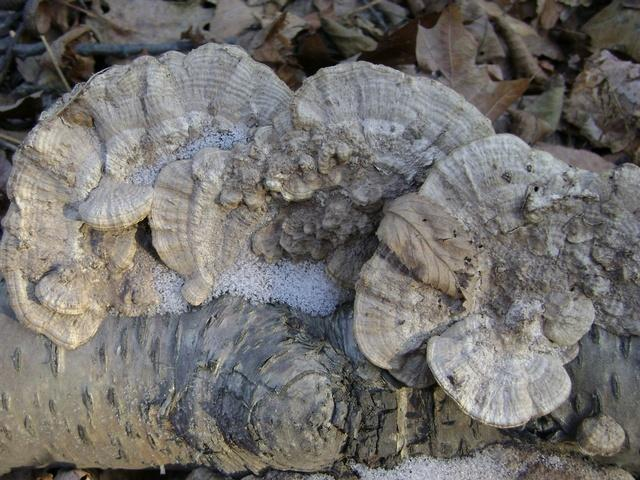poisonous_mushroom: (280, 43, 607, 417), (1, 40, 295, 349)
